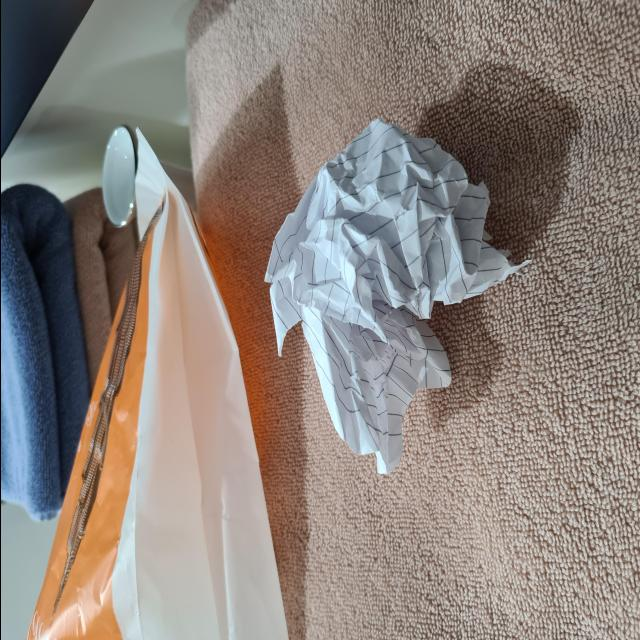kertas: (264, 117, 502, 466)
